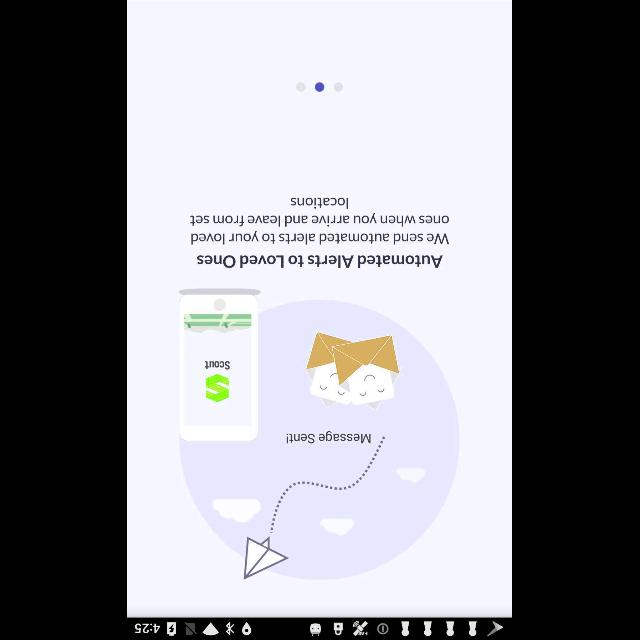image: (179, 288, 461, 580)
pageindicator: (296, 82, 344, 92)
text: (190, 197, 450, 245), (198, 254, 444, 268)
uppertaskbar: (128, 617, 512, 639)
